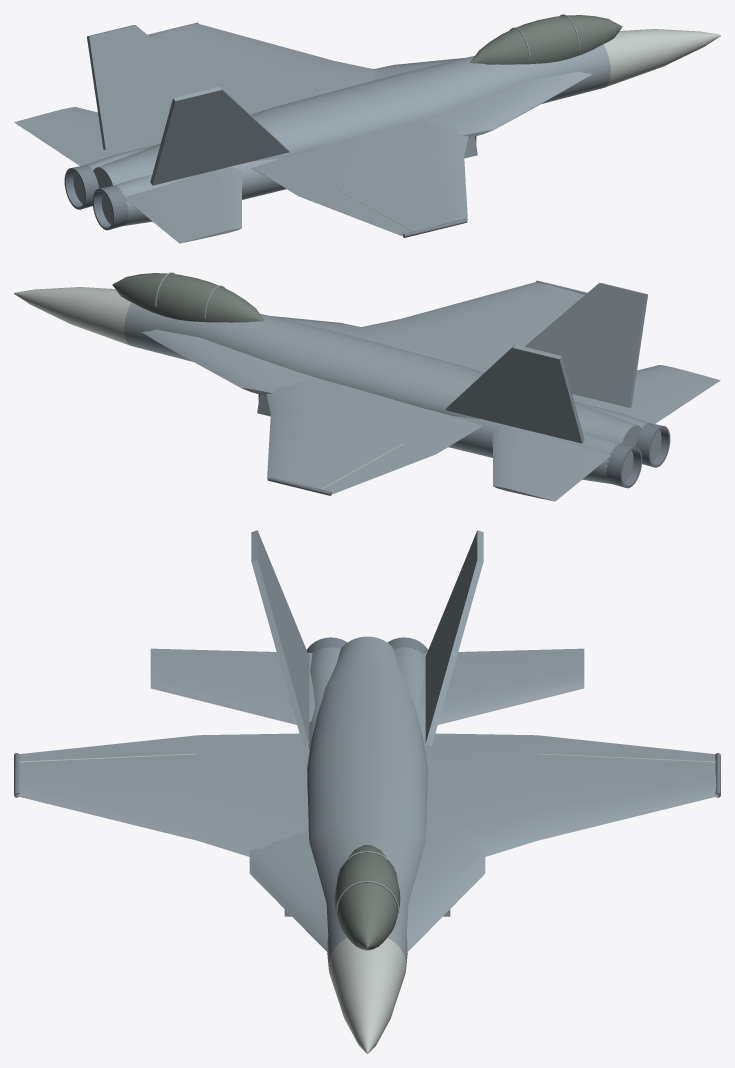
File: usn_fighter_fa18f.glb
3 views of the same model, one above another, from view 1: azimuth 30°, elevation 25°; view 2: azimuth 150°, elevation 25°; view 3: azimuth 270°, elevation 25° (orthographic). The views are drawn at different scales.
Visible parts, largest first — view 1: airframe, canopy_gold, array_face, titanium; view 2: airframe, canopy_gold, array_face, titanium; view 3: airframe, array_face, canopy_gold, titanium.
Boxes of the visible parts, bbox=[...] form: airframe: bbox=[14, 14, 610, 243]; canopy_gold: bbox=[470, 15, 622, 64]; array_face: bbox=[331, 29, 720, 231]; titanium: bbox=[64, 22, 467, 237]; airframe: bbox=[124, 272, 720, 501]; canopy_gold: bbox=[112, 273, 264, 322]; array_face: bbox=[14, 287, 403, 489]; titanium: bbox=[267, 280, 670, 495]; airframe: bbox=[16, 530, 718, 965]; array_face: bbox=[19, 753, 715, 1053]; canopy_gold: bbox=[334, 845, 400, 950]; titanium: bbox=[14, 637, 720, 797].
Size of the model in its own units: 10 by 2.17 by 7.41.
